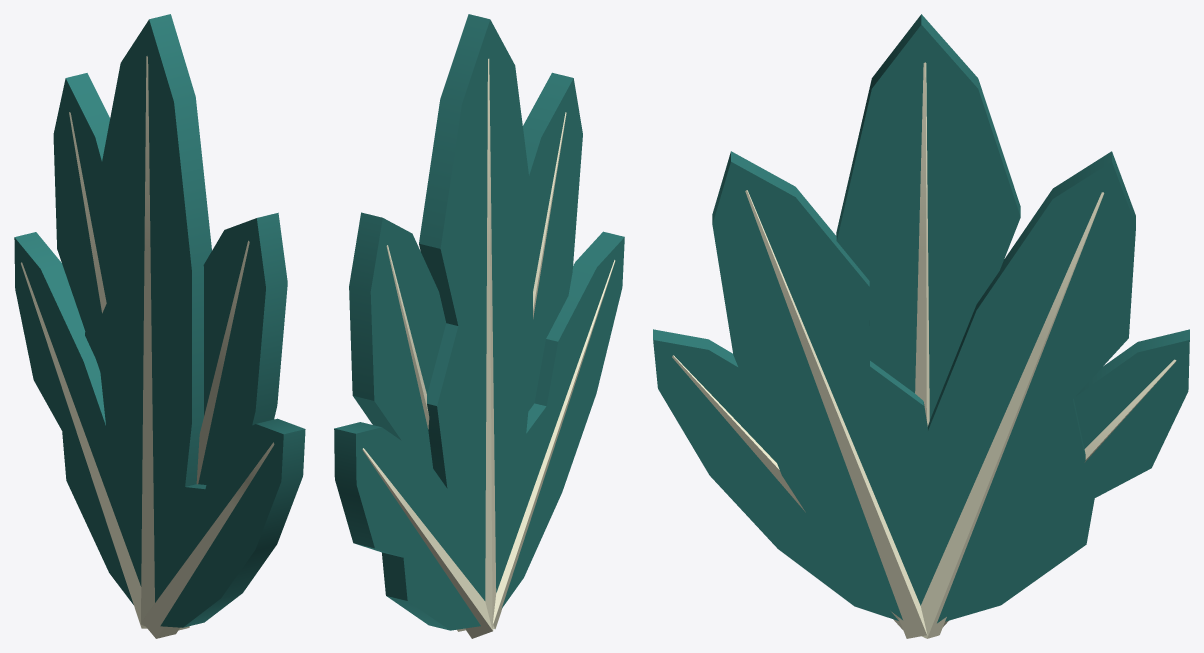
File: crest_feather.glb
The picture shows the model from 3 angles, left to right: view 1: azimuth 30°, elevation 25°; view 2: azimuth 150°, elevation 25°; view 3: azimuth 270°, elevation 25°; orthographic projection.
Visible parts, largest first — view 1: crest_feather; view 2: crest_feather; view 3: crest_feather.
Part boxes in pixels (<box>): crest_feather: <box>14,14,305,638</box>; crest_feather: <box>334,14,624,638</box>; crest_feather: <box>653,14,1189,638</box>.
Size of the model in its own units: 0.0366 by 0.489 by 0.3865.
